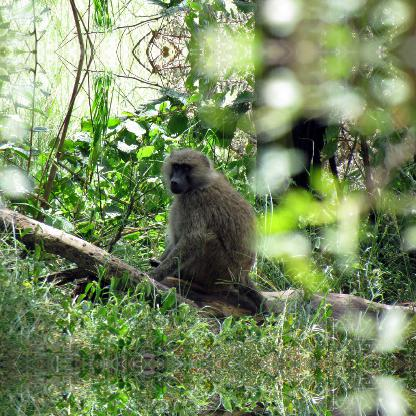Monkey: (148, 142, 296, 318)
